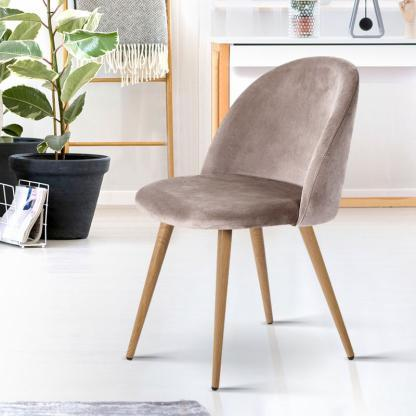chair: (117, 47, 381, 394)
table: (210, 32, 416, 209)
